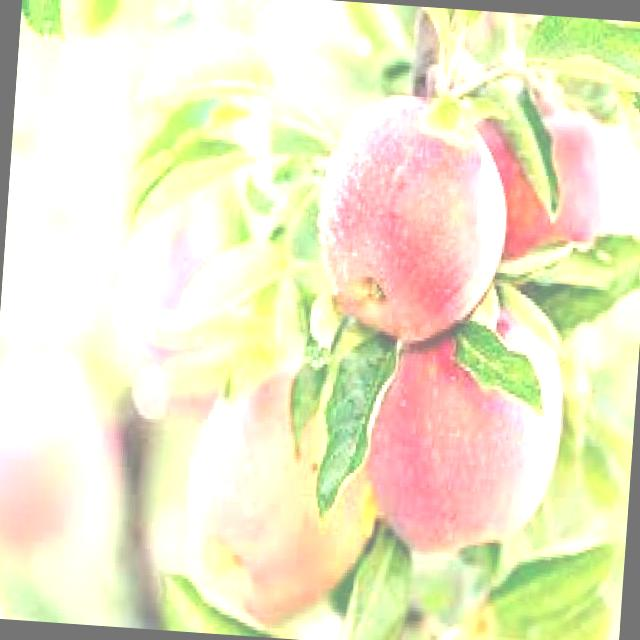Apple: (358, 280, 569, 560), (176, 358, 388, 635), (307, 86, 514, 349), (461, 83, 637, 268), (112, 221, 271, 414)
